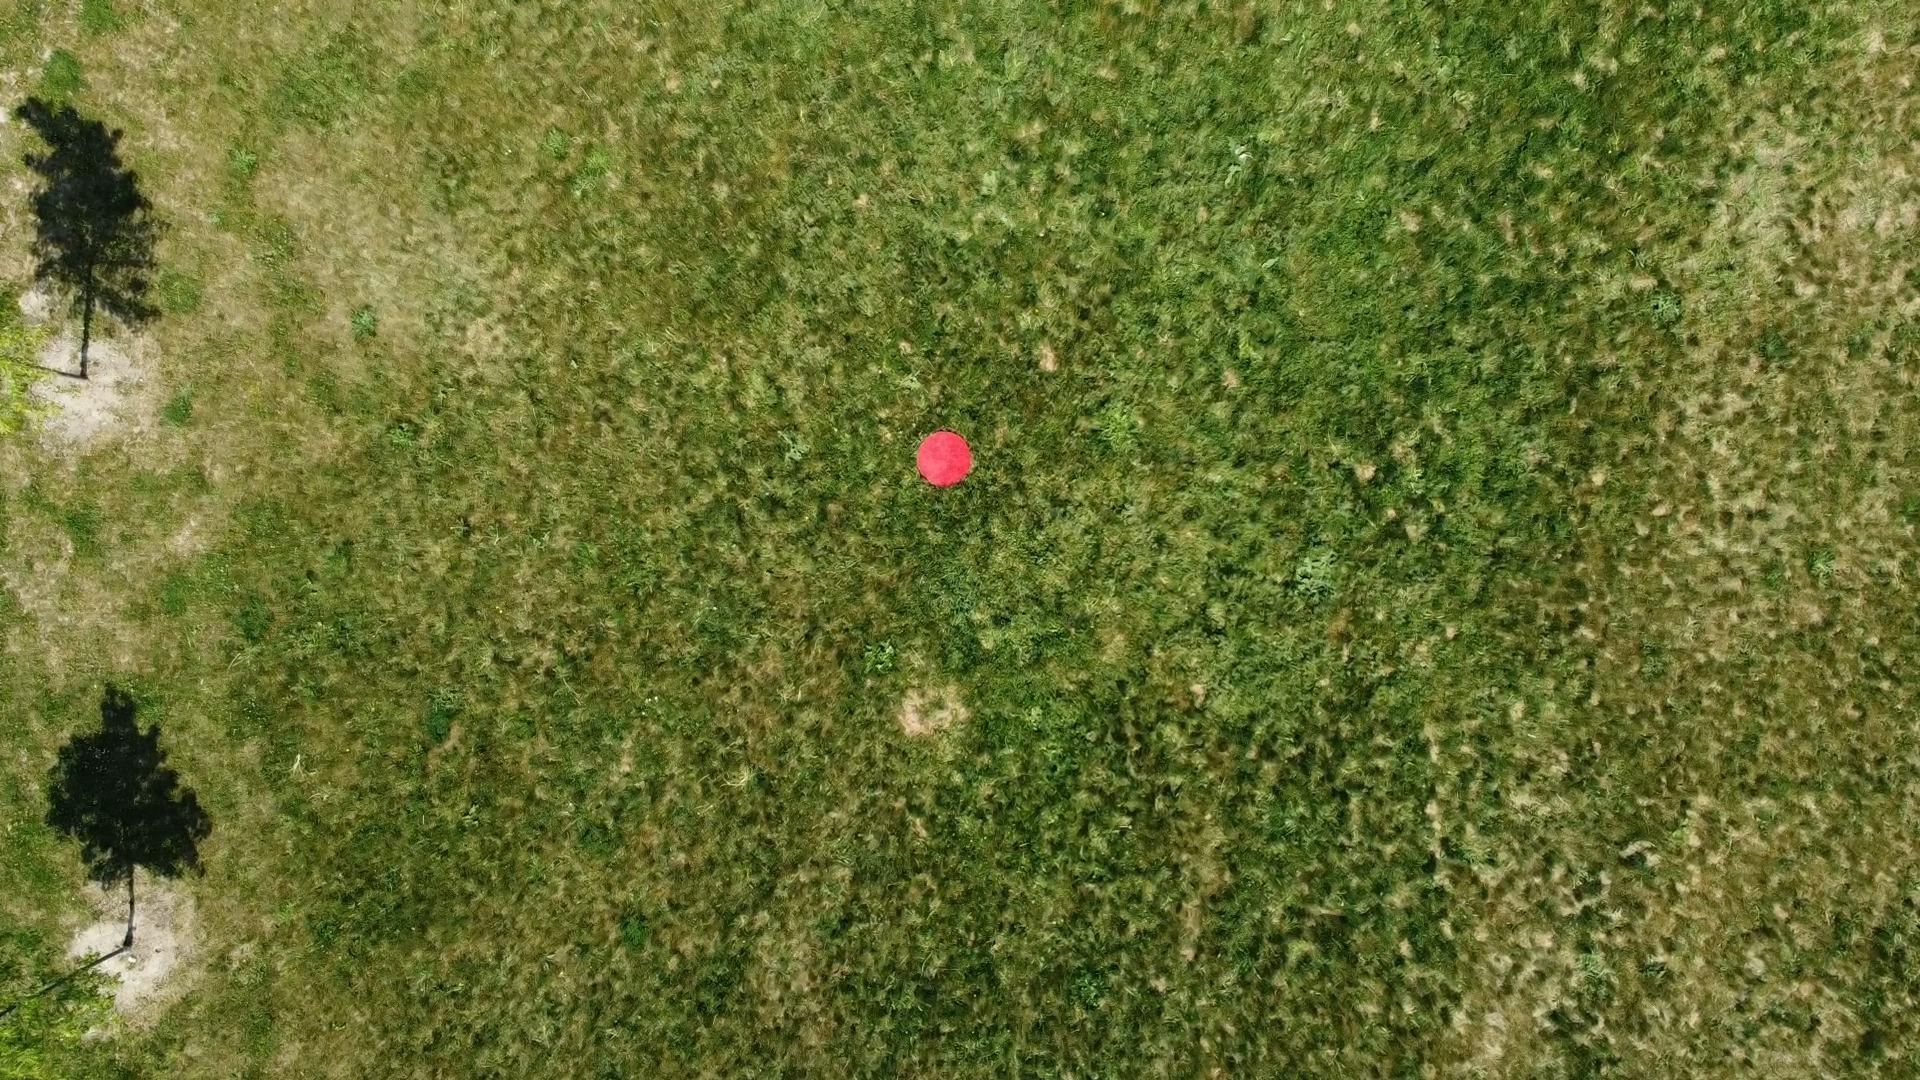Red: (915, 429, 975, 489)
